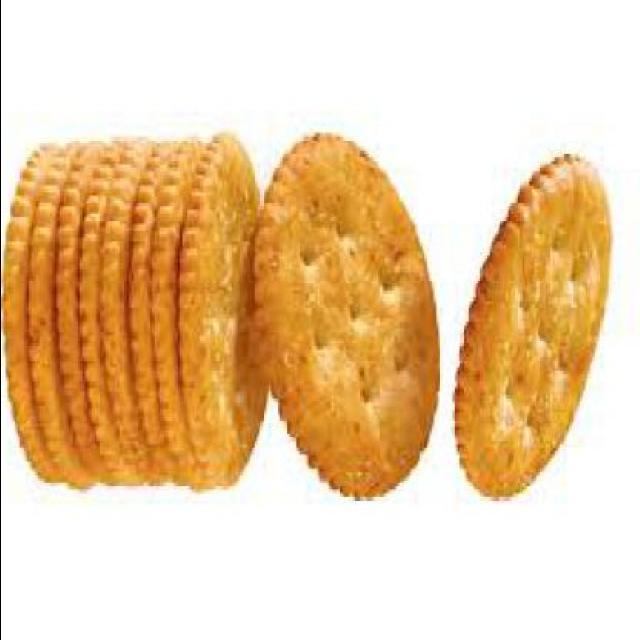Ritz cracker packaged: (1, 108, 617, 536)
